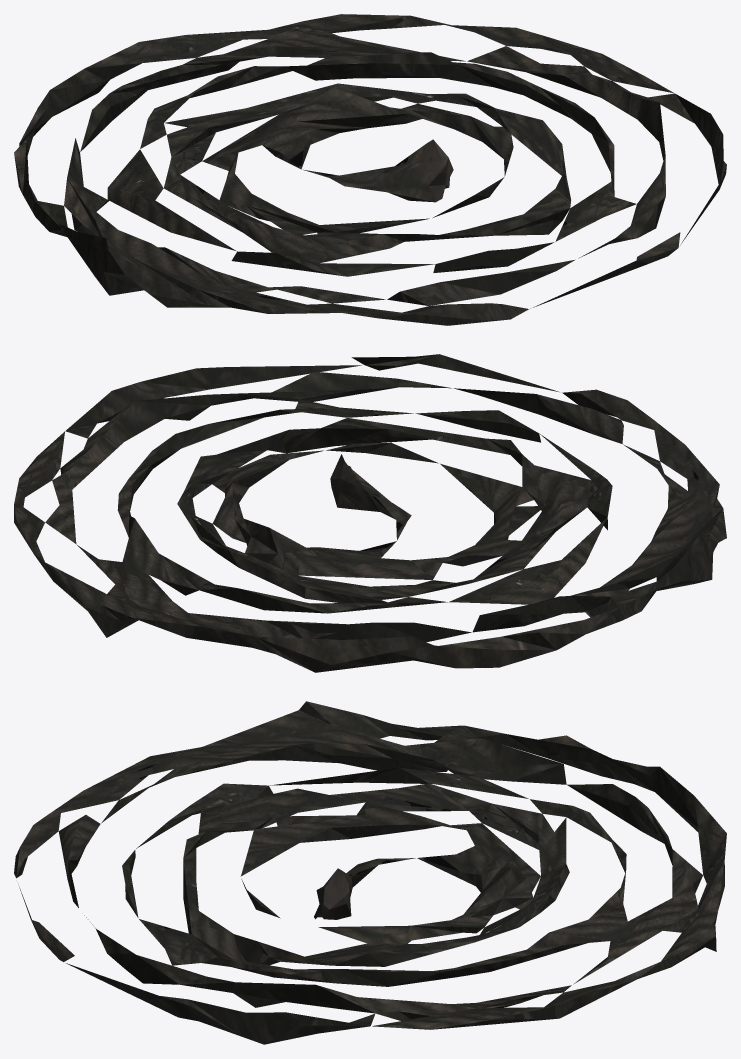
File: rope_coil.glb
The picture shows the model from 3 angles, top to bottom: view 1: azimuth 30°, elevation 25°; view 2: azimuth 150°, elevation 25°; view 3: azimuth 270°, elevation 25°; orthographic projection. The views are drawn at different scales.
Parts seen in each view (by area): view 1: output_unwrapped; view 2: output_unwrapped; view 3: output_unwrapped.
Boxes of the visible parts, x1,y1,x2,y2 form: output_unwrapped: (14, 14, 726, 325); output_unwrapped: (14, 354, 726, 672); output_unwrapped: (14, 701, 726, 1044).
Size of the model in its own units: 0.7 by 0.065 by 0.7.
1 material, 1 textured.
